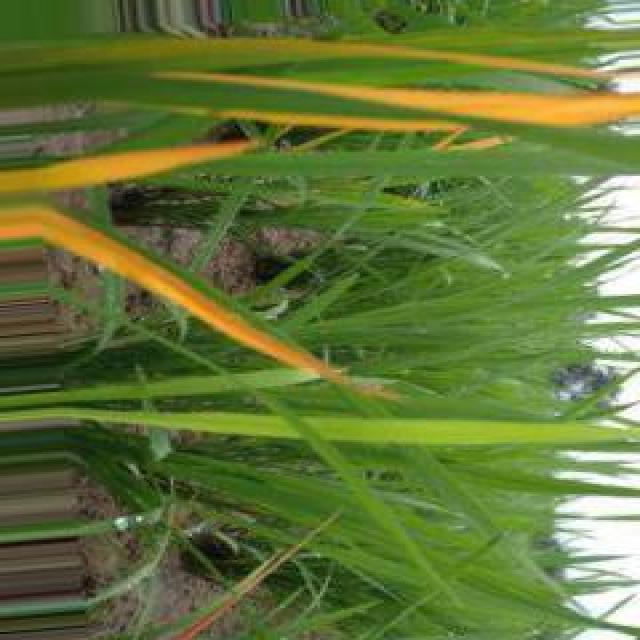Rice Tungro: (2, 206, 350, 384), (153, 71, 638, 126), (0, 140, 253, 192), (213, 110, 467, 132)
